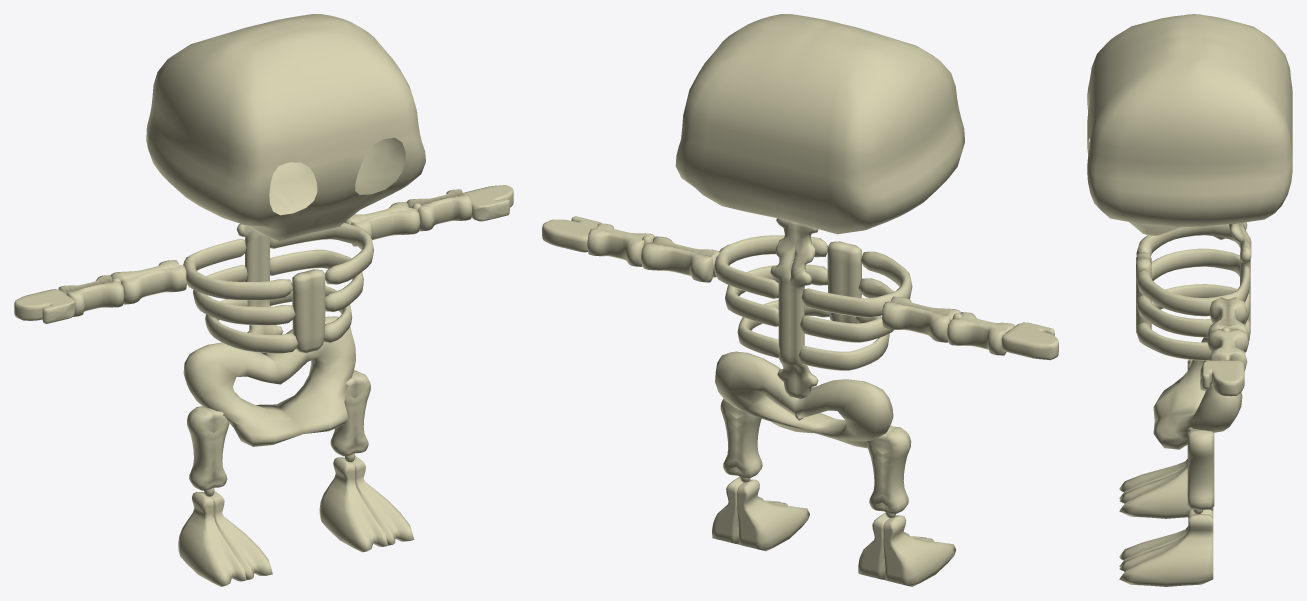
The model's file is calavera5.fbx.
The picture shows the model from 3 angles, left to right: view 1: azimuth 30°, elevation 25°; view 2: azimuth 150°, elevation 25°; view 3: azimuth 270°, elevation 25°; orthographic projection. The views are drawn at different scales.
Parts seen in each view (by area): view 1: Skeleton; view 2: Skeleton; view 3: Skeleton.
Boxes of the visible parts, left/top/right/bottom form: Skeleton: left=14, top=14, right=513, bottom=586; Skeleton: left=542, top=14, right=1058, bottom=586; Skeleton: left=1087, top=14, right=1292, bottom=586.
Size of the model in its own units: 489 by 484 by 178.
